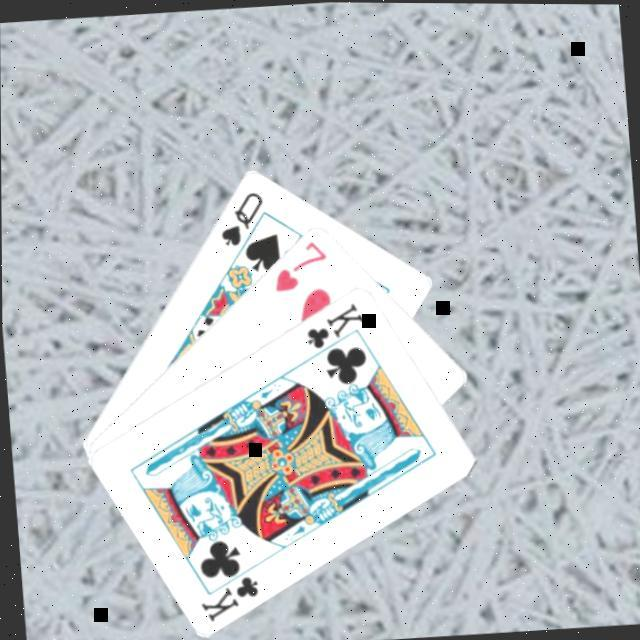7H: (269, 233, 334, 293)
KC: (302, 295, 371, 360), (195, 557, 264, 622)
QS: (215, 183, 271, 246)
